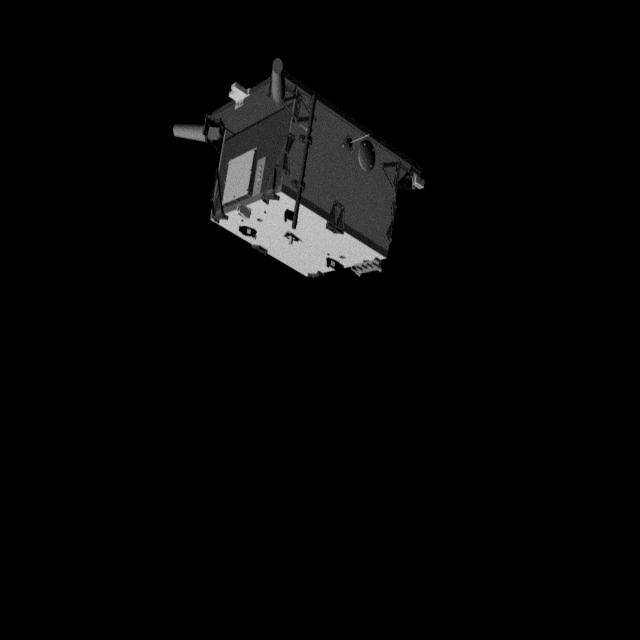satellite: (158, 50, 432, 286)
